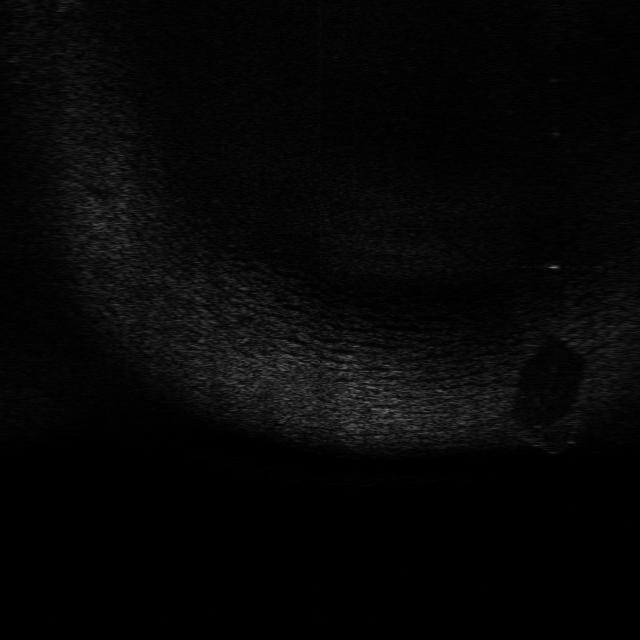cube: (512, 408, 588, 454)
